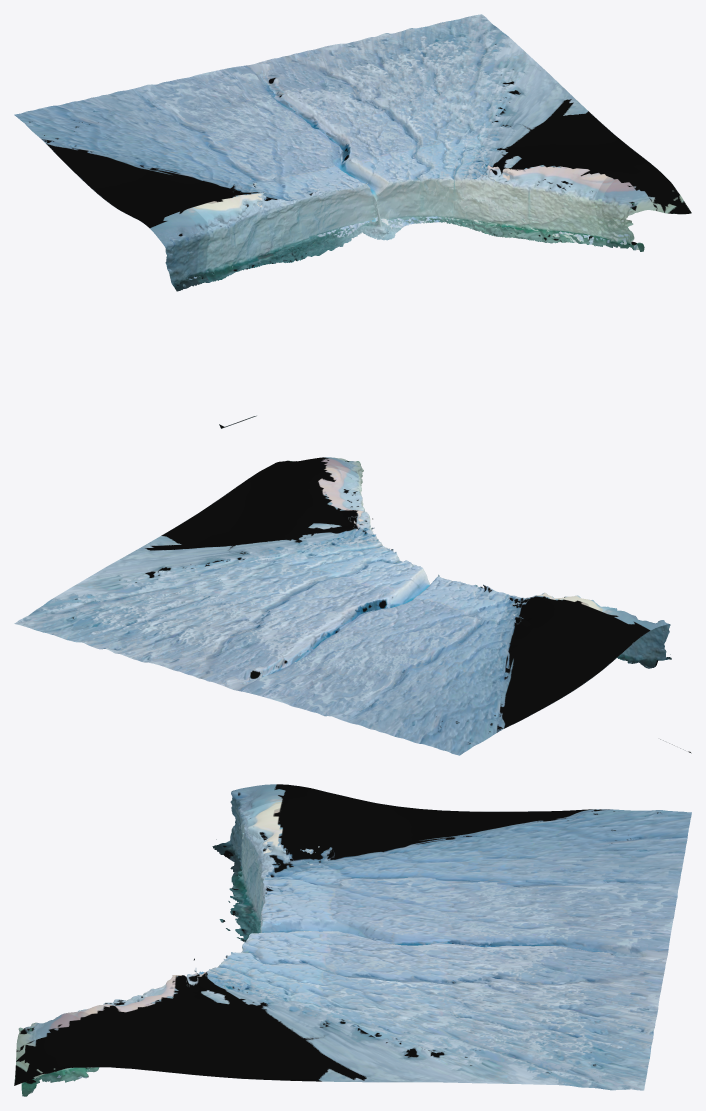
The model's file is mcd-glacier-wall.glb.
The picture shows the model from 3 angles, top to bottom: view 1: azimuth 30°, elevation 25°; view 2: azimuth 150°, elevation 25°; view 3: azimuth 270°, elevation 25°; orthographic projection. The views are drawn at different scales.
Visible parts, largest first — view 1: Object_2, Object_3, Object_4; view 2: Object_2, Object_3, Object_4; view 3: Object_2, Object_3, Object_4.
Part boxes in pixels (x1,y1,x2,y2): Object_2: (14, 14, 691, 428); Object_3: (52, 33, 619, 283); Object_4: (16, 34, 602, 289); Object_2: (14, 457, 691, 755); Object_3: (91, 470, 665, 741); Object_4: (106, 478, 670, 753); Object_2: (14, 784, 691, 1096); Object_3: (44, 785, 679, 1082); Object_4: (70, 787, 687, 1078).
Size of the model in its own units: 75.45 by 26.64 by 71.91.
Materials: 1 (1 with a texture image).
